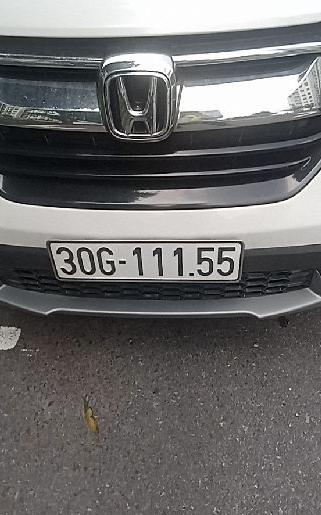Plate-iWeP: (52, 243, 240, 282)
